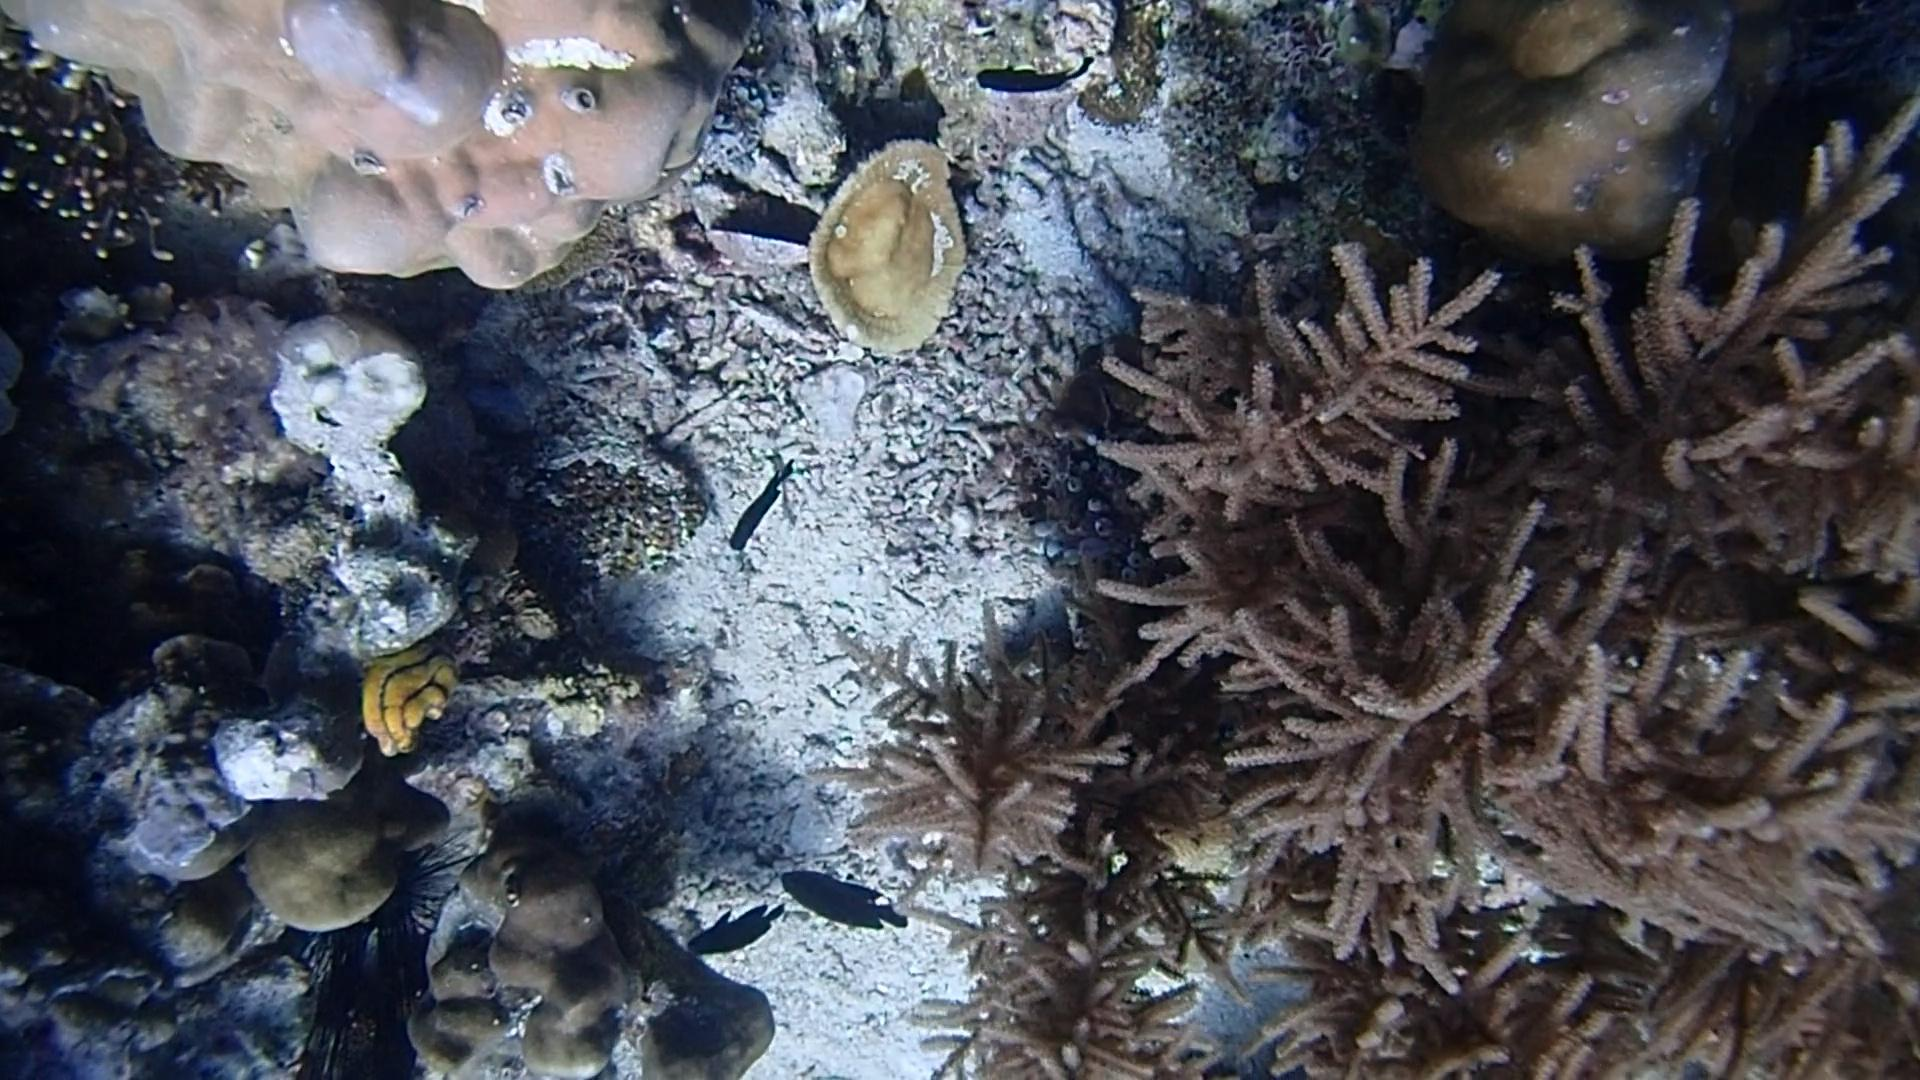Dark Fish: (770, 855, 913, 940), (707, 455, 810, 558), (971, 47, 1096, 104), (683, 898, 786, 957)
